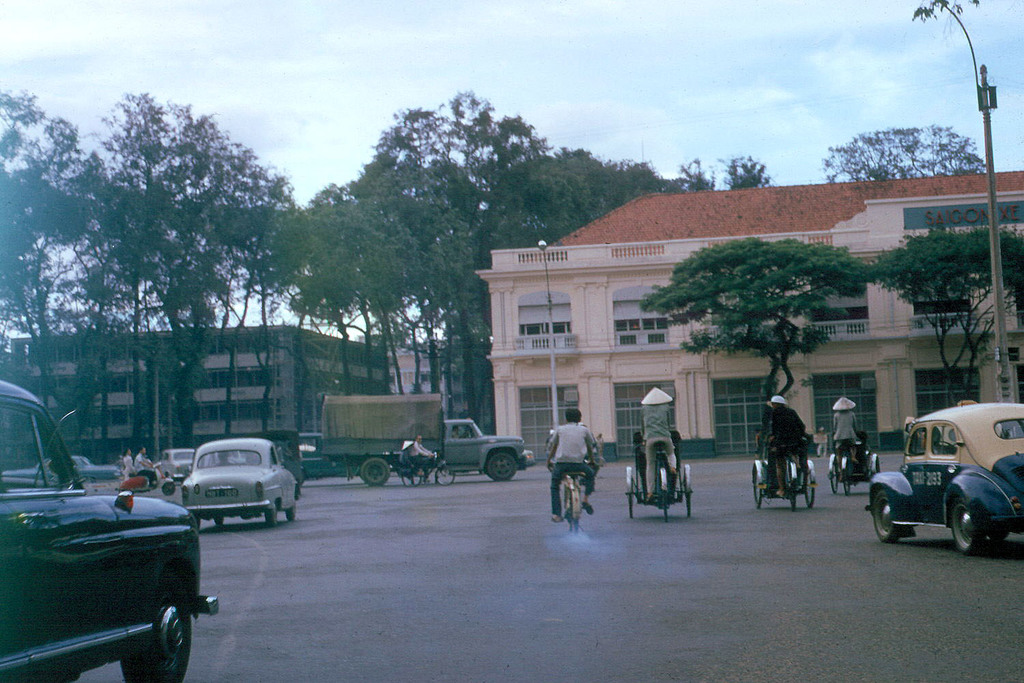Car: (0, 377, 215, 682), (856, 401, 1023, 555), (157, 445, 292, 540)
